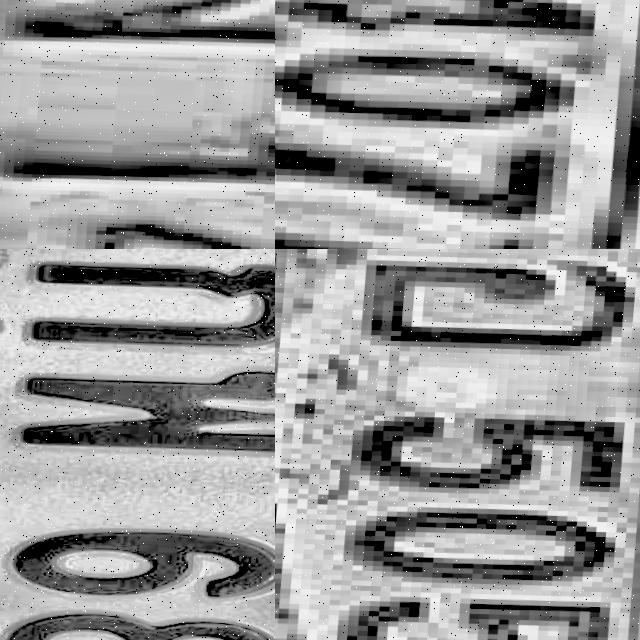license-plate: (275, 249, 640, 640), (0, 249, 275, 640), (275, 0, 640, 249), (0, 0, 275, 249)
